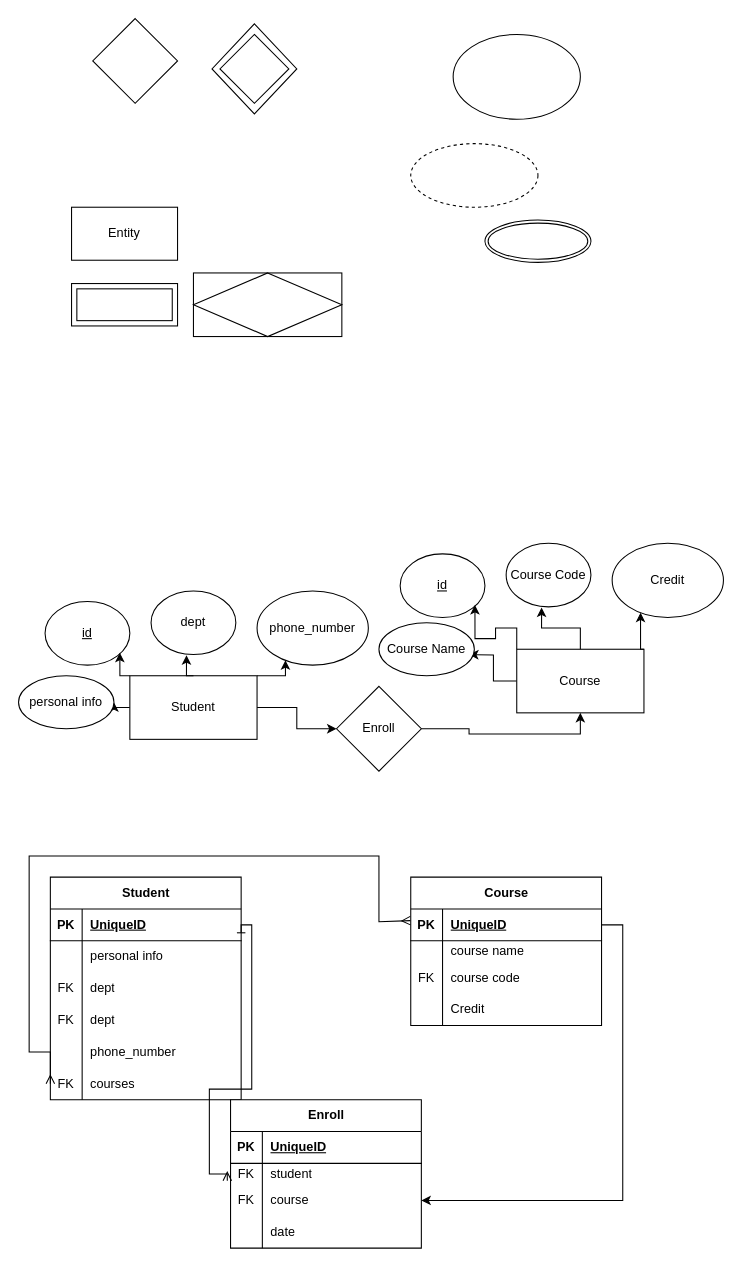
This 742x1267 diagram has some shape labels left out. The shapes that lost their labels are listed below. From the top down, each one's box as (x1, y1, x2, y2) in pixels, then its label:
(92, 17, 178, 103): Relation
(219, 33, 289, 103): Weak relation
(452, 33, 580, 119): name
(410, 143, 538, 207): Derived Attribute
(484, 219, 591, 262): Multivalued
(70, 282, 178, 326): Weak Entity
(192, 272, 342, 337): Associative Entity
